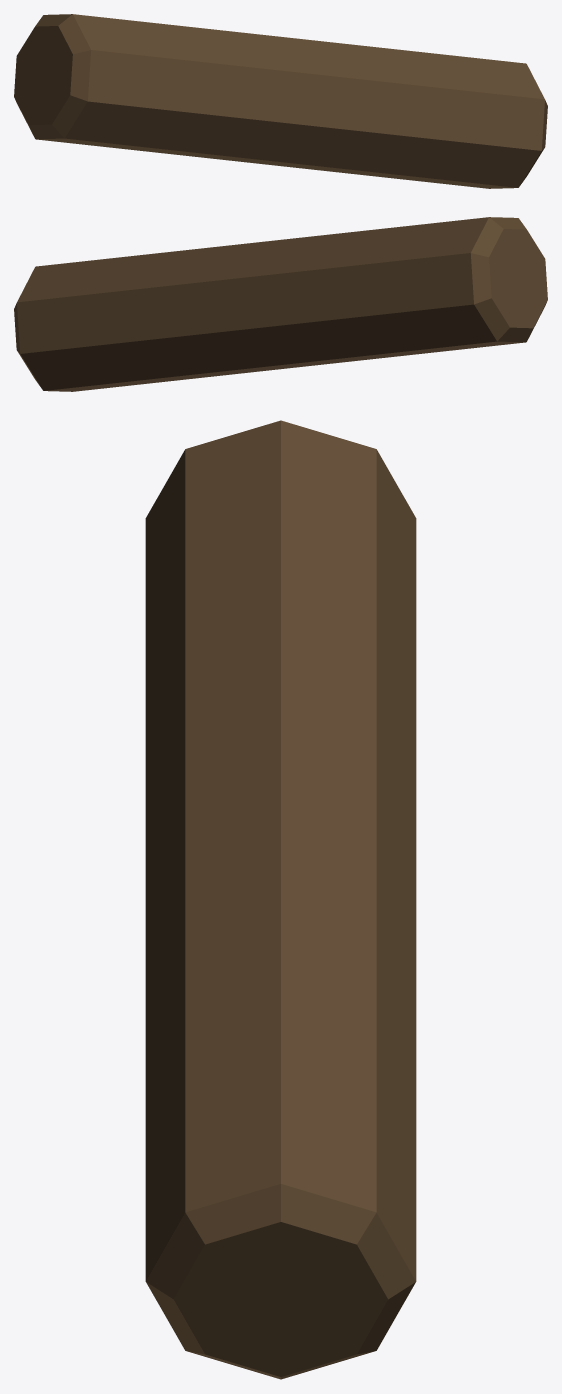
Rendered from Fireplace_Traditional_Log3.FBX.
The picture shows the model from 3 angles, top to bottom: view 1: azimuth 30°, elevation 25°; view 2: azimuth 150°, elevation 25°; view 3: azimuth 270°, elevation 25°; orthographic projection. The views are drawn at different scales.
Parts seen in each view (by area): view 1: Fireplpace_Traditional_Log3; view 2: Fireplpace_Traditional_Log3; view 3: Fireplpace_Traditional_Log3.
Boxes of the visible parts, x1,y1,x2,y2 form: Fireplpace_Traditional_Log3: [14, 14, 547, 188]; Fireplpace_Traditional_Log3: [14, 217, 547, 391]; Fireplpace_Traditional_Log3: [145, 420, 416, 1379].
Bounding box in the file's own units: 30.9 × 16.17 × 7.17.
1 material, 1 textured.
